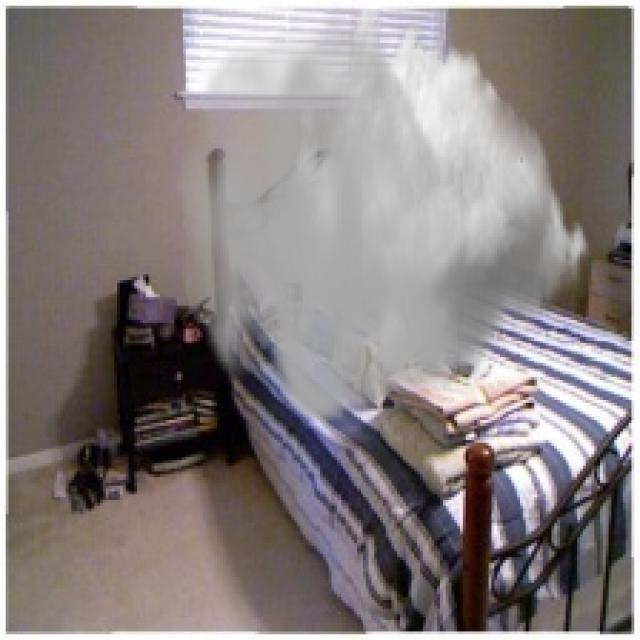Smoke: (177, 9, 592, 428)
